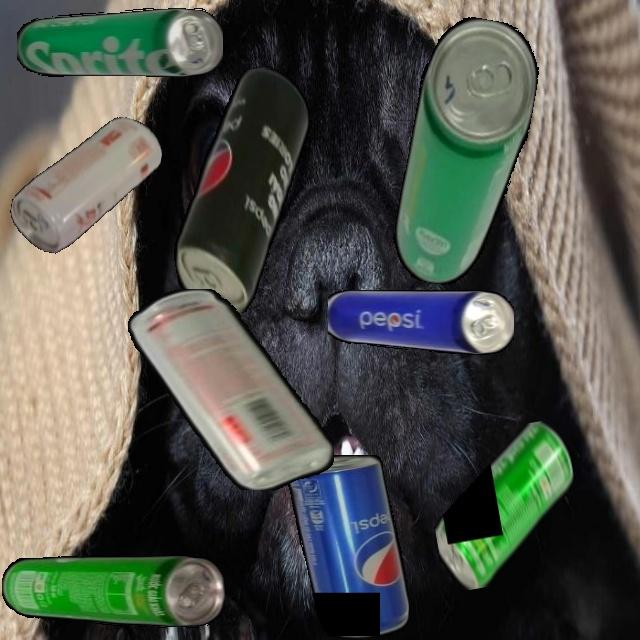debris: (145, 61, 341, 322), (387, 11, 546, 294), (128, 288, 334, 490), (420, 417, 590, 594), (5, 101, 167, 268), (287, 455, 409, 638), (1, 555, 225, 628), (16, 8, 223, 77), (327, 290, 514, 355)
